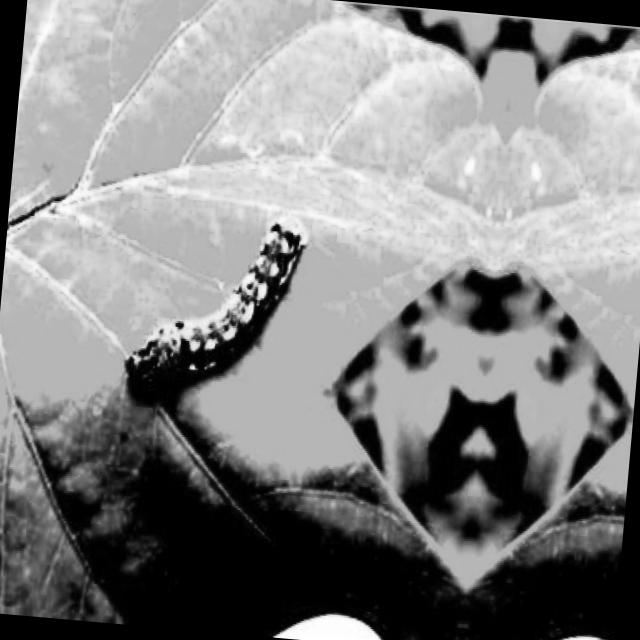Armyworm: (110, 155, 332, 437)
